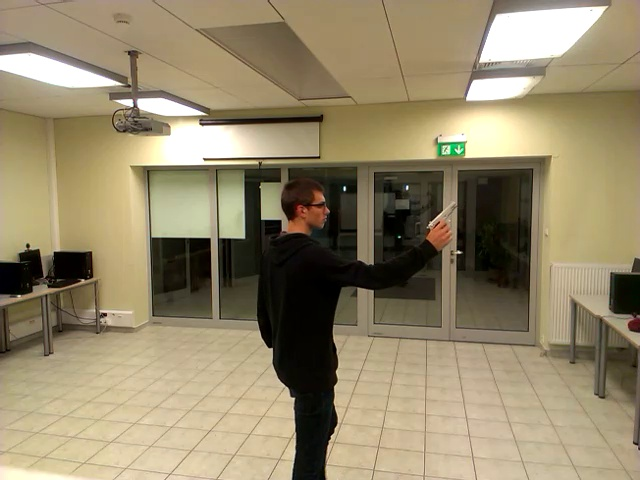gun: (399, 175, 483, 238)
